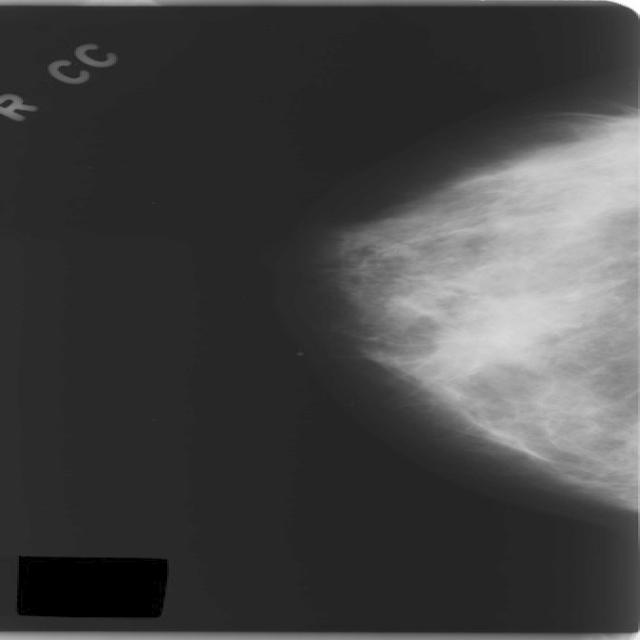tumour: (431, 304, 549, 366)
